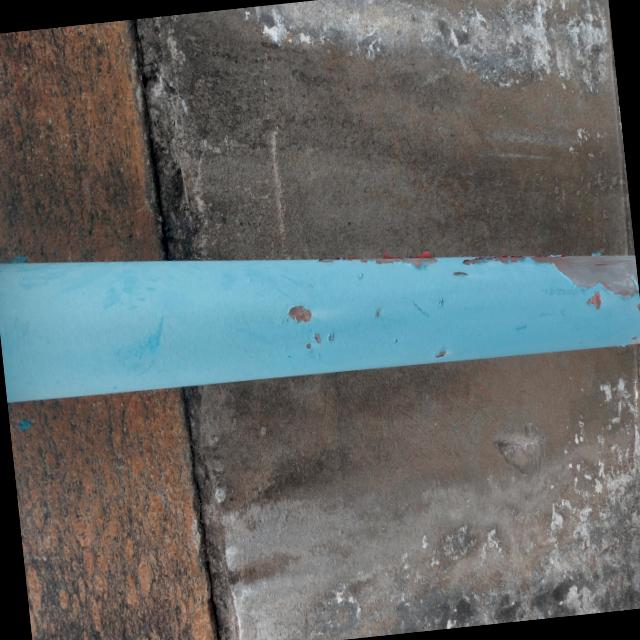gas: (0, 185, 640, 419)
